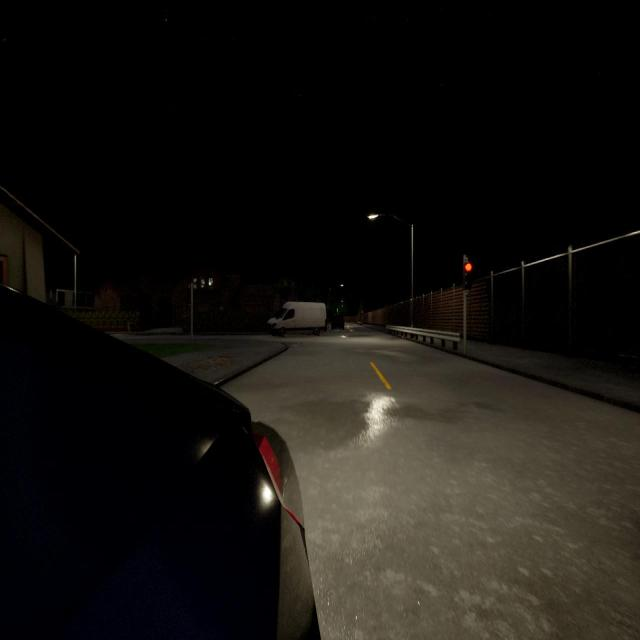Vehicle: (0, 286, 319, 638), (268, 302, 327, 337), (331, 314, 345, 331)
traffic_light: (463, 262, 473, 291), (361, 311, 364, 318)
